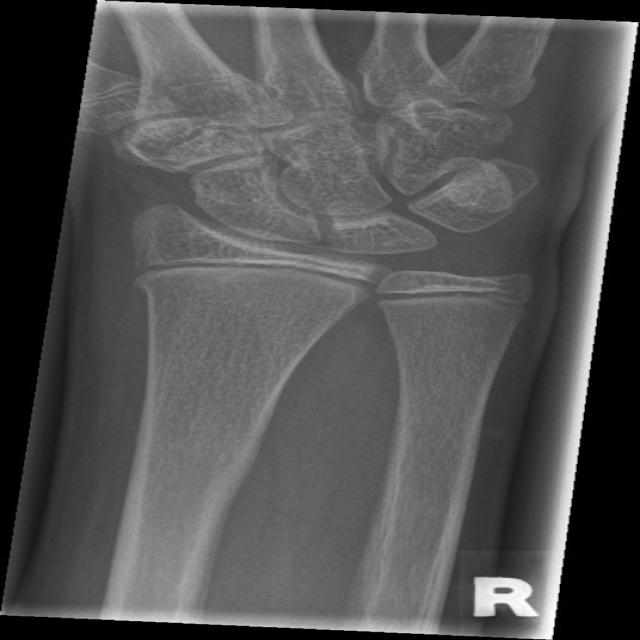fracture: (115, 238, 394, 314), (357, 270, 543, 324)
